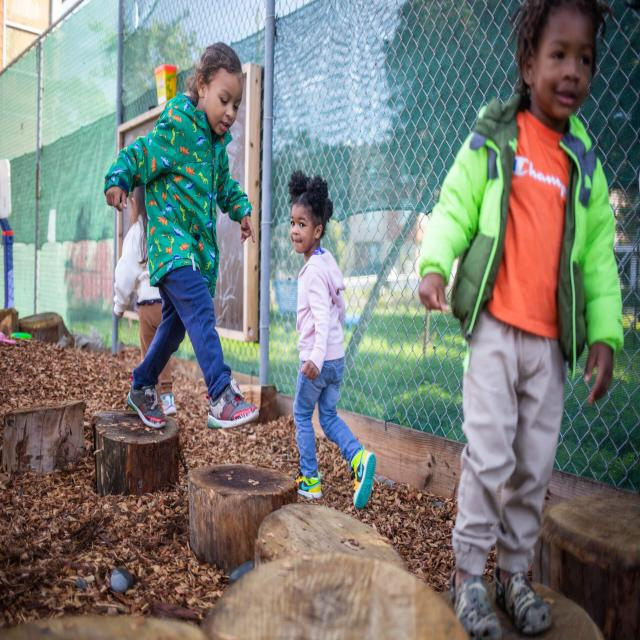child: (416, 3, 624, 639), (104, 41, 261, 433), (286, 167, 378, 511)
